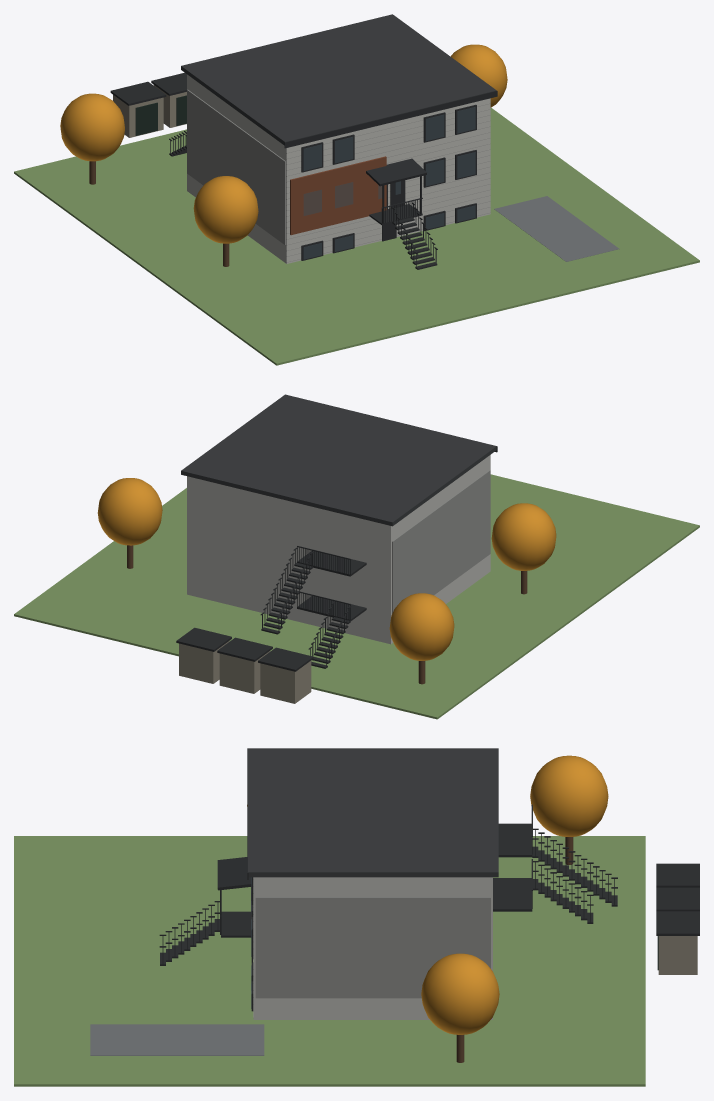
The model's file is exterior-v1.glb.
3 renders of one model, top to bottom at view 1: azimuth 30°, elevation 25°; view 2: azimuth 150°, elevation 25°; view 3: azimuth 270°, elevation 25°, orthographic. The views are drawn at different scales.
Parts seen in each view (by area): view 1: lawn, flat roof, stone walls, autumn tree (×3), side siding, wood cladding panel, driveway, window frame (×6), roof fascia, shed roof (×2), porch roof, garden shed (+2 smaller); view 2: lawn, stone walls, flat roof, autumn tree (×3), side siding, garden shed (×3), shed roof (×3), rear balcony (×2); view 3: lawn, flat roof, side siding, autumn tree (×2), stone walls, driveway, shed roof (×3), rear balcony (×2), garden shed, porch roof, porch landing.
Part boxes in pixels (x1,y1,x2,y2): lawn: [14, 108, 699, 365]; flat roof: [181, 14, 496, 145]; stone walls: [187, 74, 490, 263]; autumn tree (×3): [60, 44, 507, 243]; side siding: [187, 89, 285, 244]; wood cladding panel: [290, 156, 386, 235]; driveway: [494, 196, 619, 261]; window frame (×6): [301, 104, 476, 187]; roof fascia: [284, 90, 497, 148]; shed roof (×2): [110, 72, 186, 105]; porch roof: [366, 158, 426, 186]; garden shed: [113, 95, 163, 137]; lawn: [14, 474, 699, 719]; stone walls: [187, 455, 490, 644]; flat roof: [181, 394, 496, 526]; autumn tree (×3): [97, 478, 556, 660]; side siding: [392, 470, 490, 613]; garden shed (×3): [179, 641, 311, 703]; shed roof (×3): [176, 627, 313, 671]; rear balcony (×2): [297, 551, 366, 621]; lawn: [14, 836, 645, 1086]; flat roof: [248, 748, 498, 877]; side siding: [255, 897, 490, 998]; autumn tree (×2): [421, 755, 608, 1034]; stone walls: [253, 877, 492, 1019]; driveway: [90, 1024, 264, 1055]; shed roof (×3): [656, 863, 699, 935]; rear balcony (×2): [493, 823, 532, 911]; garden shed: [658, 936, 697, 974]; porch roof: [217, 857, 251, 890]; porch landing: [221, 911, 250, 937].
Bounding box in the file's own units: 27 × 8.34 × 31.5.
